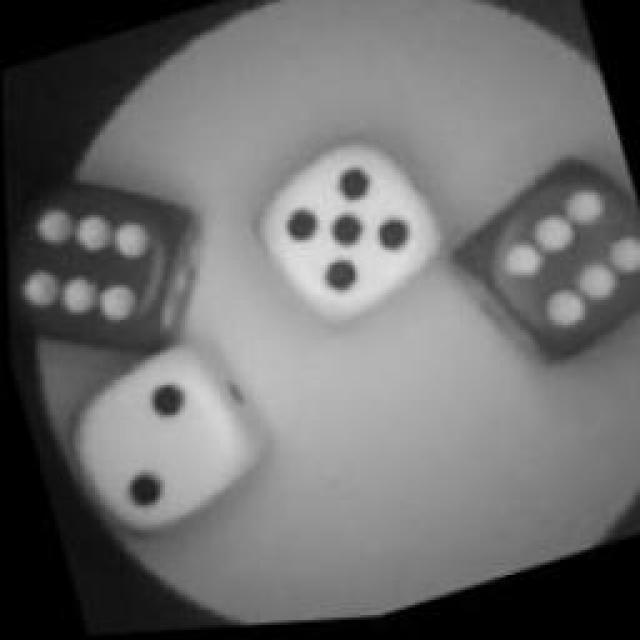dice_2: (51, 325, 279, 547)
dice_5: (250, 130, 448, 342)
dice_6: (2, 158, 198, 382), (455, 152, 640, 380)
